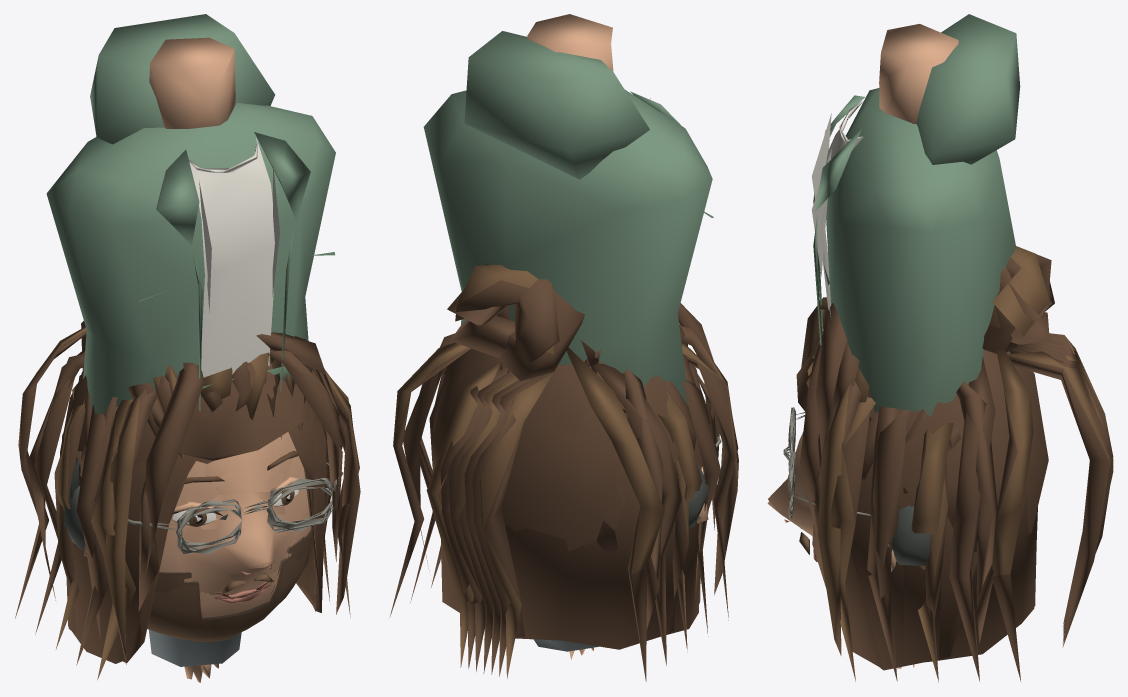
File: characters-low.glb
3 renders of one model, left to right at view 1: azimuth 30°, elevation 25°; view 2: azimuth 150°, elevation 25°; view 3: azimuth 270°, elevation 25°, orthographic.
Parts seen in each view (by area): view 1: torso, hair_bob, hair_wavy, tee, hoodie_details, face_round, hair_curly, neck, collar, beard_short_angular, hair_fluffy, thigh (+13 smaller); view 2: torso, hair_bob, hair_wavy, hair_ponytail, hoodie_details, hair_curly, hair_bun, neck, hair_fluffy, headphones; view 3: torso, hair_wavy, hair_bob, hoodie_details, hair_curly, hair_ponytail, hair_bun, neck, hair_side-part, headphones, face_round, collar (+3 smaller).
Part boxes in pixels (x1,y1,x2,y2): torso: [46, 103, 335, 414]; hair_bob: [27, 349, 360, 664]; hair_wavy: [15, 326, 359, 679]; tee: [188, 138, 274, 377]; hoodie_details: [90, 14, 295, 388]; face_round: [162, 437, 311, 604]; hair_curly: [60, 356, 326, 485]; neck: [149, 37, 235, 128]; collar: [156, 132, 310, 245]; beard_short_angular: [147, 529, 312, 641]; hair_fluffy: [76, 352, 283, 476]; thigh: [148, 629, 241, 666]; torso: [423, 89, 712, 406]; hair_bob: [403, 303, 738, 649]; hair_wavy: [389, 342, 738, 681]; hair_ponytail: [426, 361, 553, 678]; hoodie_details: [464, 31, 650, 179]; hair_curly: [432, 348, 710, 551]; hair_bun: [444, 264, 719, 530]; neck: [527, 14, 613, 71]; hair_fluffy: [432, 324, 696, 551]; headphones: [688, 460, 709, 528]; torso: [826, 88, 1015, 416]; hair_wavy: [818, 349, 1036, 682]; hair_bob: [800, 297, 1037, 667]; hoodie_details: [811, 14, 1020, 277]; hair_curly: [796, 329, 1048, 552]; hair_ponytail: [1007, 333, 1113, 647]; hair_bun: [812, 246, 1054, 586]; neck: [879, 24, 958, 123]; hair_side-part: [816, 303, 916, 456]; headphones: [891, 505, 930, 565]; face_round: [768, 440, 813, 533]; collar: [815, 95, 864, 211].
Size of the model in its own units: 0.5297 by 1.17 by 0.5871.
